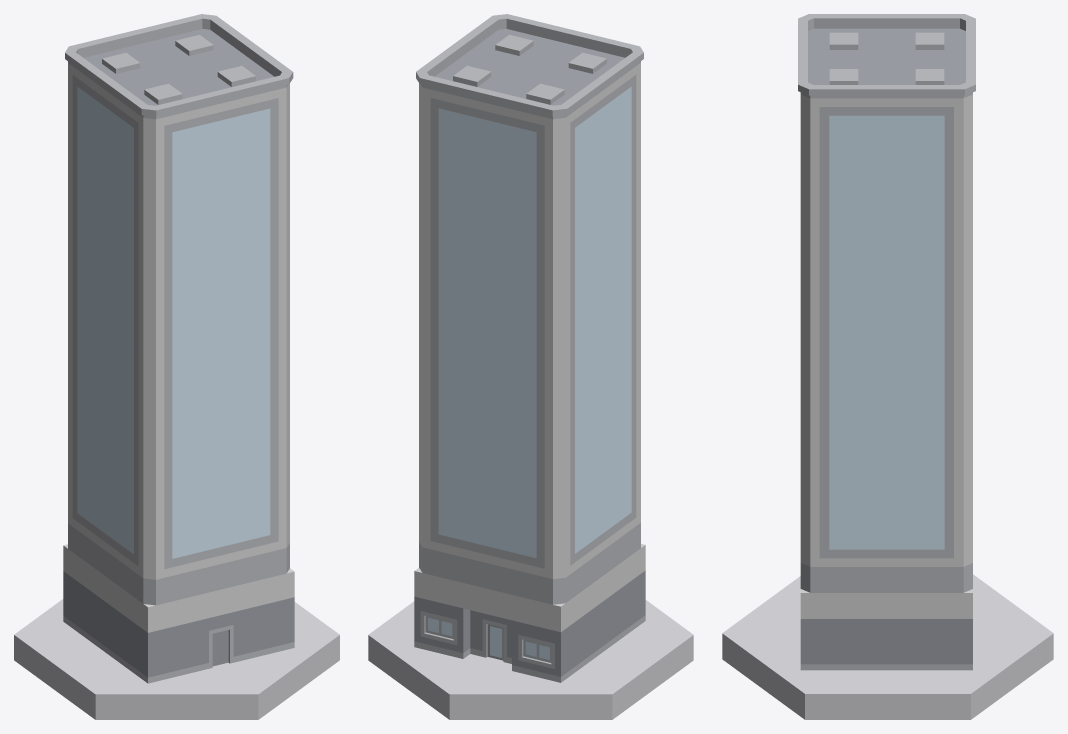
Rendered from skyscraper_2_low.fbx.
The picture shows the model from 3 angles, left to right: view 1: azimuth 30°, elevation 25°; view 2: azimuth 150°, elevation 25°; view 3: azimuth 270°, elevation 25°; orthographic projection.
Parts seen in each view (by area): view 1: skyscraperB.001, pavement_low.004; view 2: skyscraperB.001, pavement_low.004; view 3: skyscraperB.001, pavement_low.004.
Part boxes in pixels (<box>): skyscraperB.001: <box>63,14,294,683</box>; pavement_low.004: <box>14,599,339,719</box>; skyscraperB.001: <box>414,14,645,682</box>; pavement_low.004: <box>368,600,693,719</box>; skyscraperB.001: <box>798,14,975,670</box>; pavement_low.004: <box>722,574,1053,719</box>.
Bounding box in the file's own units: 100 × 234 × 115.
